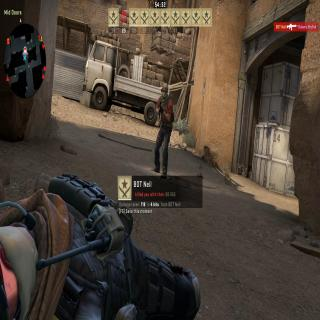T-Body: (151, 82, 175, 180)
T-Head: (161, 84, 169, 99)
